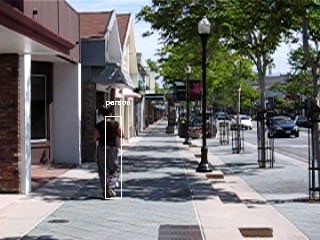person: (93, 106, 124, 200), (92, 106, 123, 200), (94, 106, 125, 200), (93, 105, 124, 199), (93, 107, 124, 201)
target_negative: (36, 69, 304, 240), (32, 54, 296, 218), (212, 146, 254, 236), (151, 21, 188, 120), (296, 144, 309, 231), (315, 167, 316, 178)
